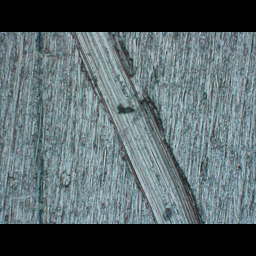d: (65, 32, 208, 223)
